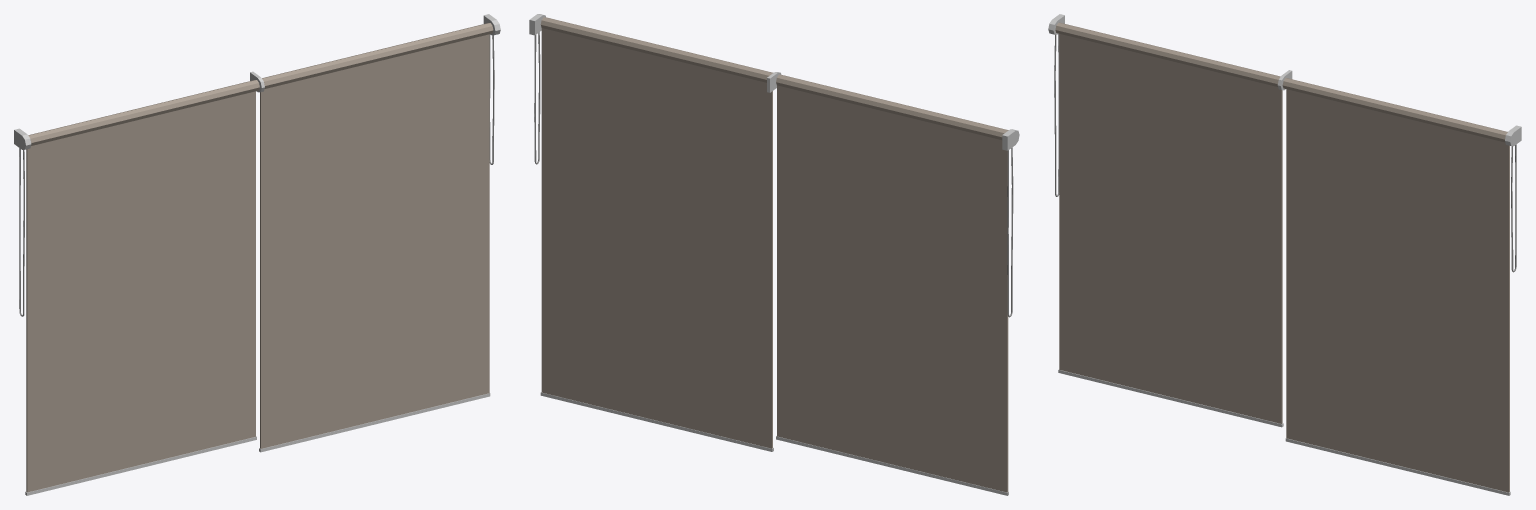
The model's file is Curtains9_C2.fbx.
3 renders of one model, left to right at view 1: azimuth 30°, elevation 25°; view 2: azimuth 150°, elevation 25°; view 3: azimuth 330°, elevation 25°, orthographic. The views are drawn at different scales.
Parts seen in each view (by area): view 1: Curtains9_C2; view 2: Curtains9_C2; view 3: Curtains9_C2.
Part boxes in pixels (x1,y1,x2,y2): Curtains9_C2: (14,14,500,495); Curtains9_C2: (529,14,1019,495); Curtains9_C2: (1048,14,1521,495).
Size of the model in its own units: 221 by 167 by 9.55.
